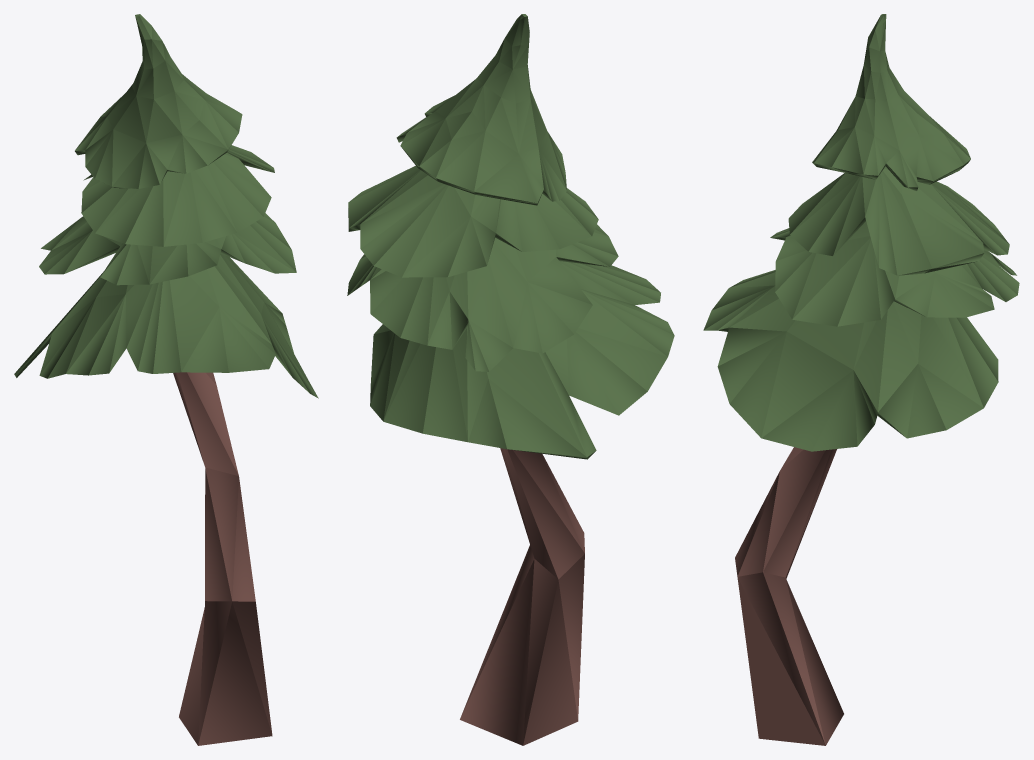
File: PineTree_4_far.glb
The picture shows the model from 3 angles, left to right: view 1: azimuth 30°, elevation 25°; view 2: azimuth 150°, elevation 25°; view 3: azimuth 270°, elevation 25°; orthographic projection. The views are drawn at different scales.
Visible parts, largest first — view 1: PineTree_4_Far; view 2: PineTree_4_Far; view 3: PineTree_4_Far.
Part boxes in pixels (x1,y1,x2,y2): PineTree_4_Far: (14,14,318,745); PineTree_4_Far: (347,14,674,745); PineTree_4_Far: (703,14,1019,745).
Bounding box in the file's own units: 1.24 × 3.34 × 1.39.
